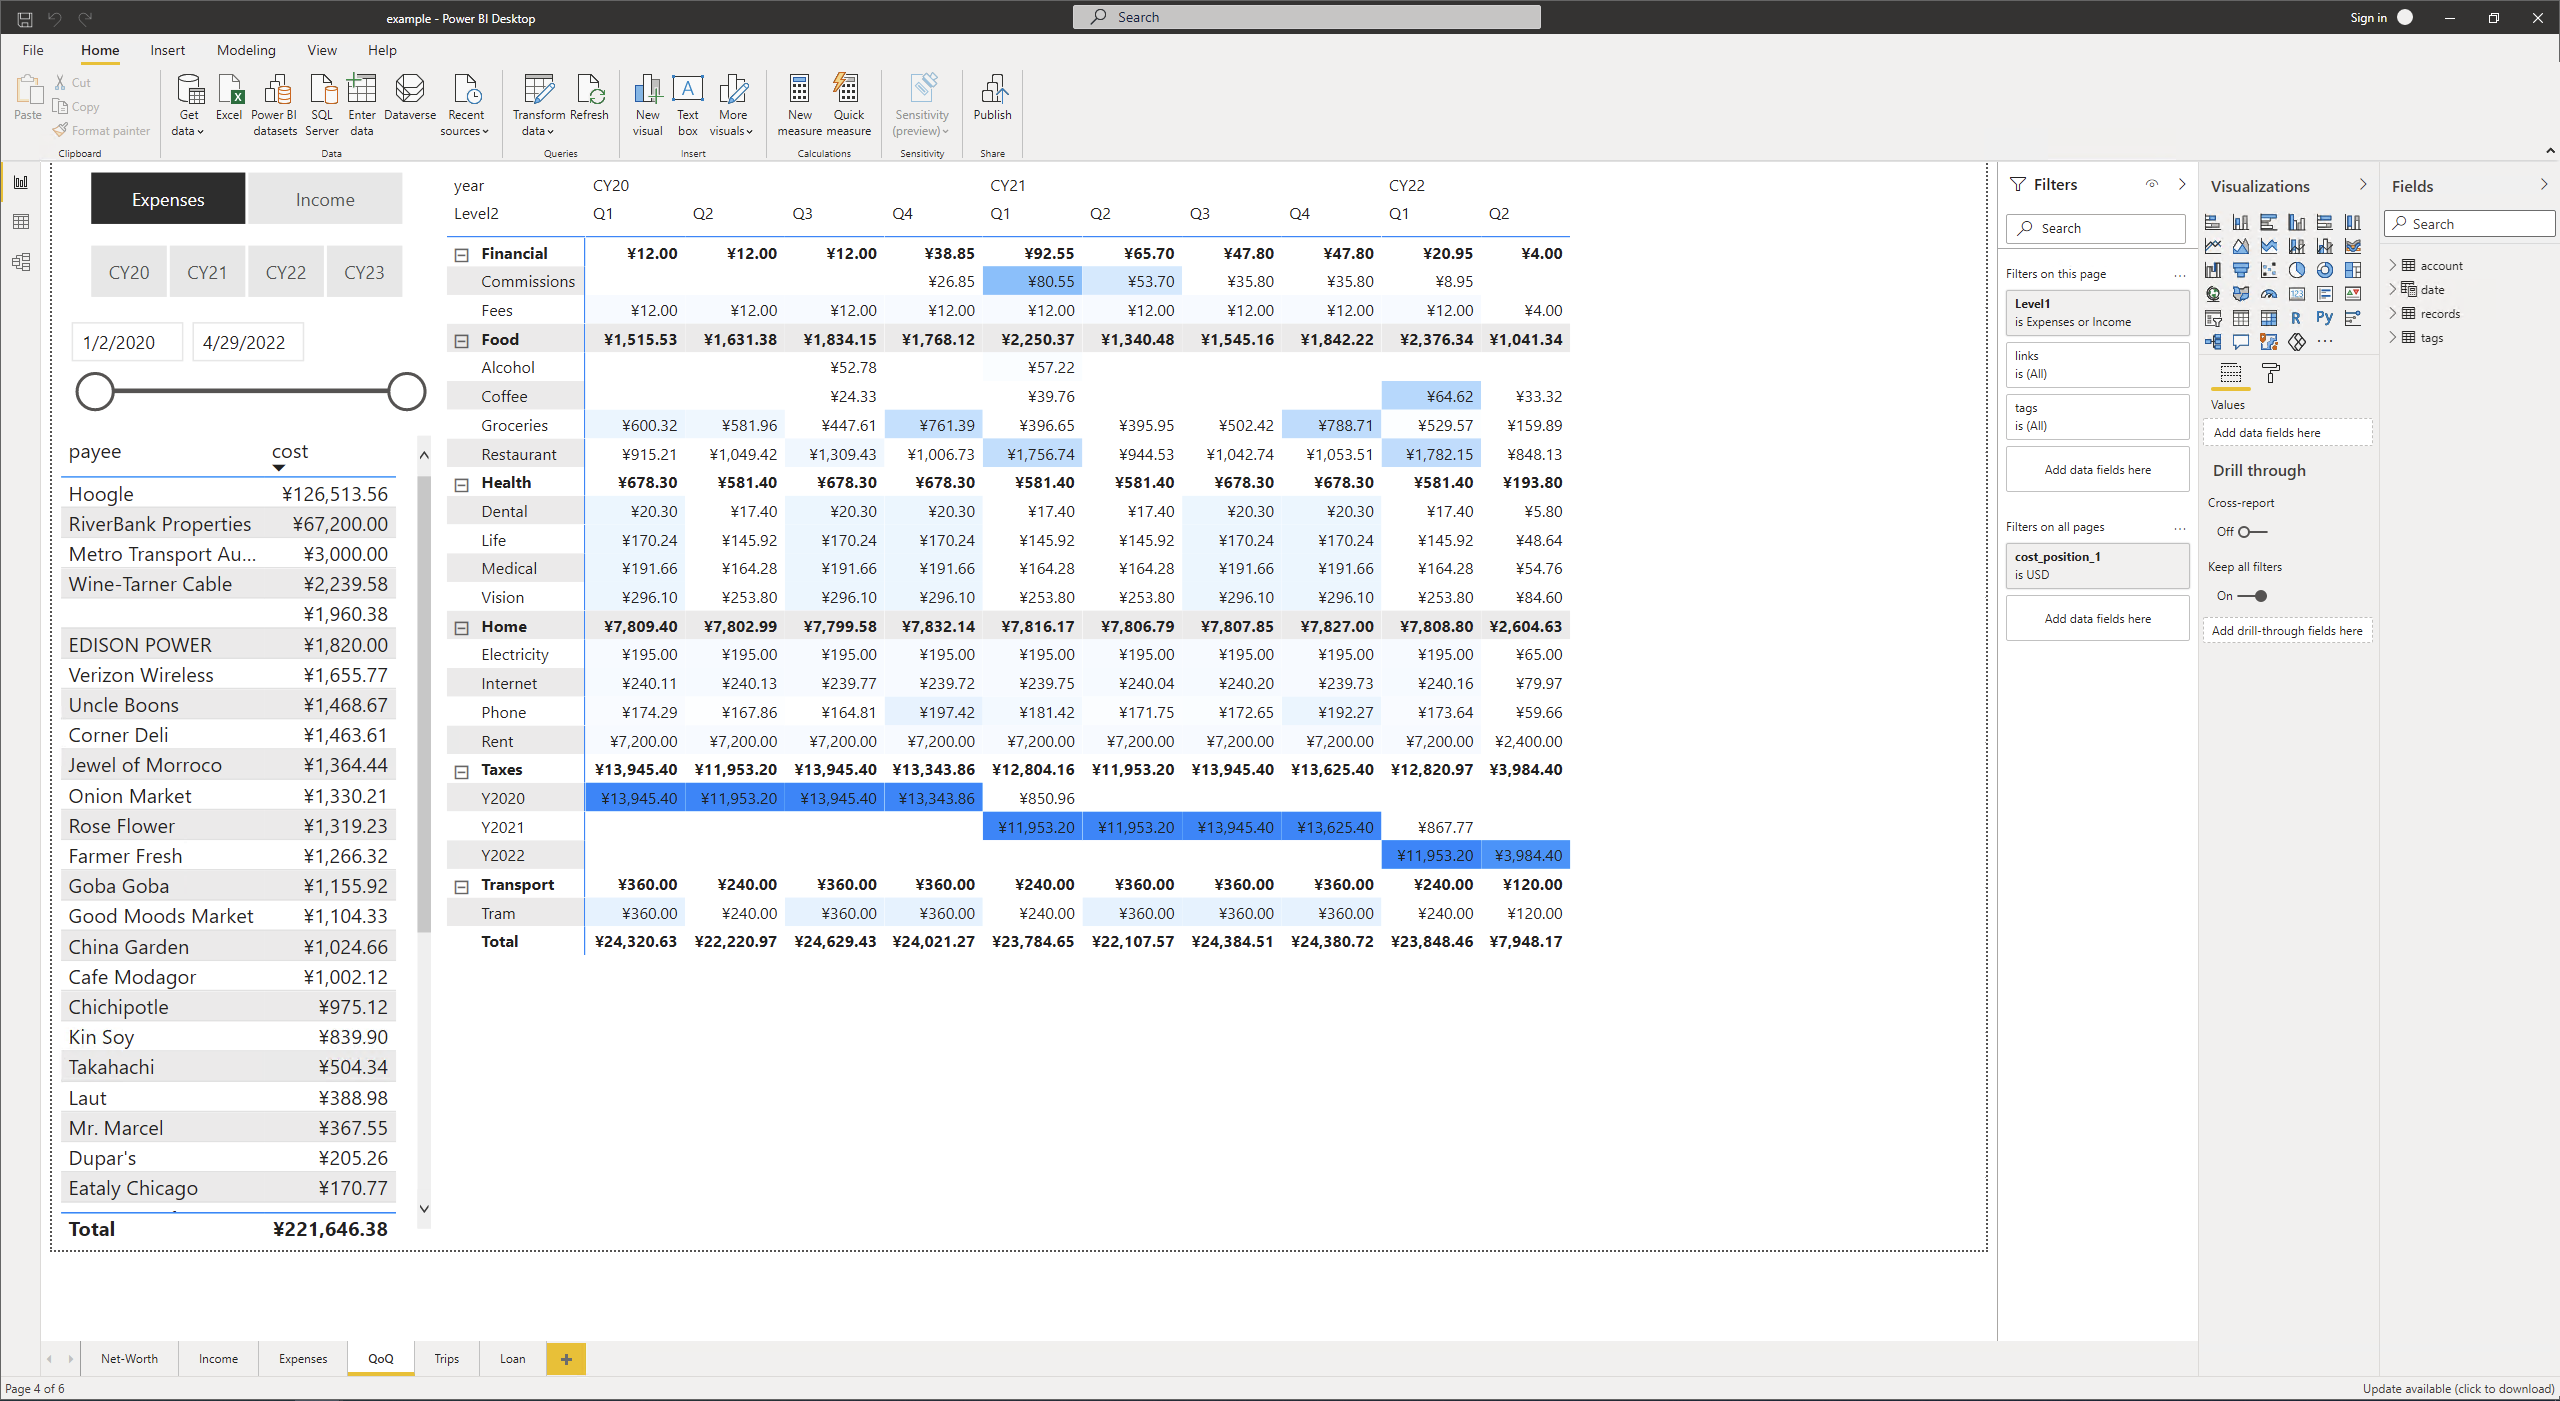

What the dashboard file says about the page in this screenshot:
{"tool":"powerbi","page":{"name":"QoQ","canvas":[1280,720],"ordinal":3},"visuals":[{"type":"pivotTable","fields":{"Columns":["date.actual_cal.year","date.actual_cal.quarter","date.actual_cal.month"],"Rows":["account.category.Level2","account.category.Level3"],"Values":["Sum(records.cost_position)"]},"box":[256,0,1024,720],"z":0},{"type":"slicer","fields":{"Values":["records.date"]},"box":[0,96,256,80],"z":1000},{"type":"slicer","fields":{"Values":["date.actual_cal.year"]},"box":[0,48,256,48],"z":2000},{"type":"slicer","fields":{"Values":["account.category.Level1"]},"box":[0,0,256,48],"z":3000},{"type":"tableEx","fields":{"Values":["records.payee","Sum(records.cost_position)"]},"box":[0,176,256,544],"z":4000}]}

Visuals, with their boxes on the page's 1280x720 design canvas (x1, y1, x2, y2). These are canvas units, not pixel positions in the 2560x1401 screenshot, which may show the page scaled, cropped or inside an application window:
pivotTable - date.actual_cal.year x date.actual_cal.quarter: BBox(256, 0, 1280, 720)
slicer - records.date: BBox(0, 96, 256, 176)
slicer - date.actual_cal.year: BBox(0, 48, 256, 96)
slicer - account.category.Level1: BBox(0, 0, 256, 48)
tableEx - records.payee x Sum(records.cost_position): BBox(0, 176, 256, 720)
